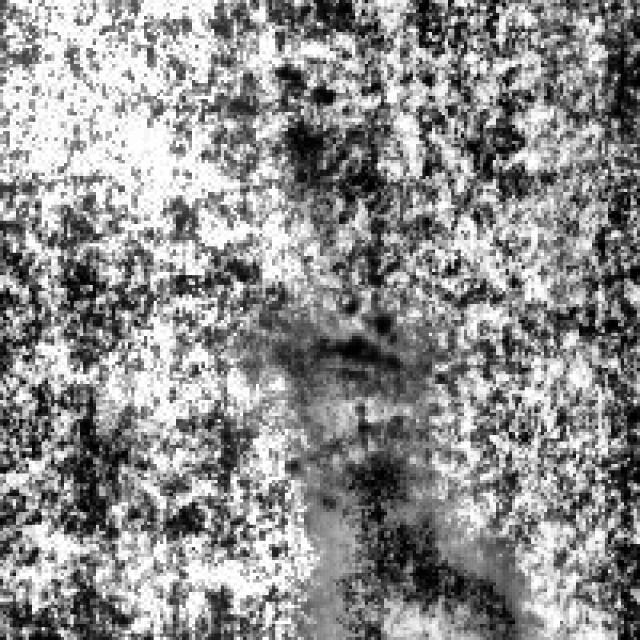Patches: (316, 288, 406, 407)
Scratches: (307, 442, 522, 634)
